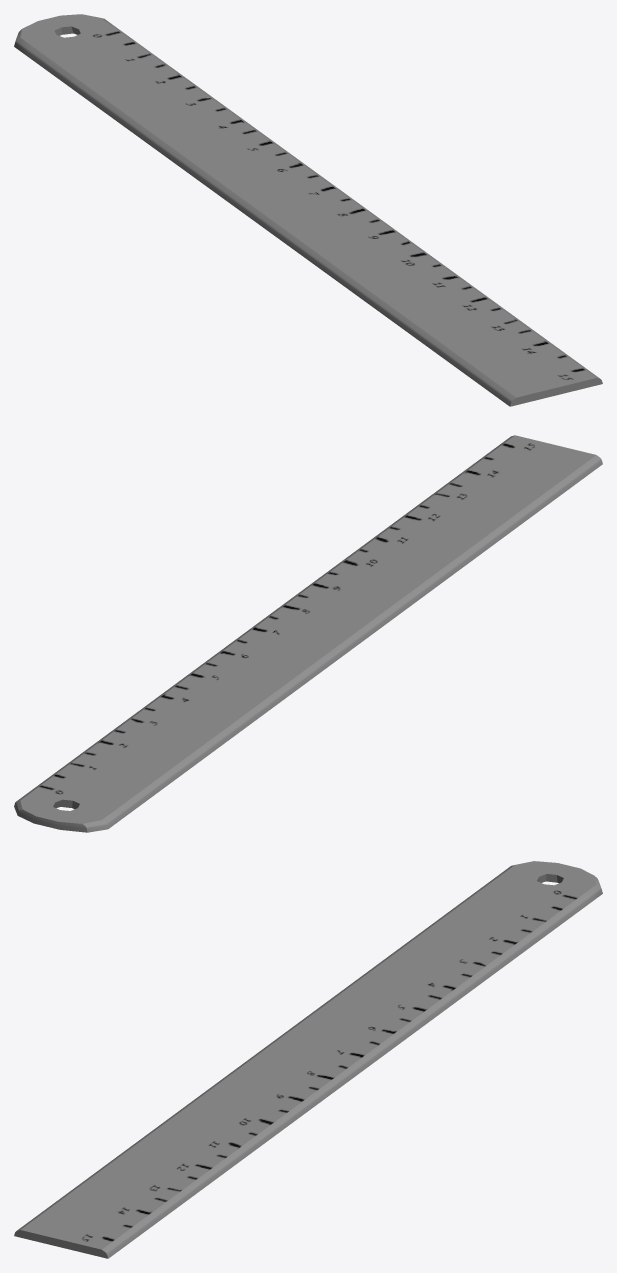
Rendered from LV1_Ruler_Metal.fbx.
The picture shows the model from 3 angles, top to bottom: view 1: azimuth 30°, elevation 25°; view 2: azimuth 150°, elevation 25°; view 3: azimuth 330°, elevation 25°; orthographic projection.
Visible parts, largest first — view 1: Ruler_wooden:pCube1; view 2: Ruler_wooden:pCube1; view 3: Ruler_wooden:pCube1.
Boxes of the visible parts, x1,y1,x2,y2 form: Ruler_wooden:pCube1: (14, 14, 602, 406); Ruler_wooden:pCube1: (14, 435, 602, 832); Ruler_wooden:pCube1: (14, 861, 602, 1258).
Size of the model in its own units: 0.2209 by 0.0167 by 2.01.
